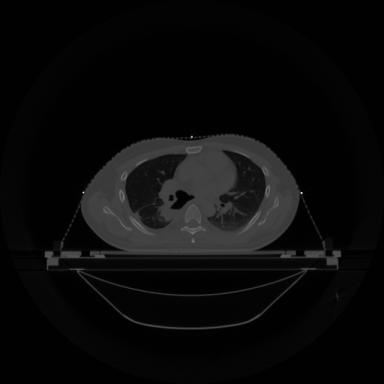body: (82, 135, 300, 251)
cord: (181, 205, 206, 243)
paru kanan: (126, 154, 186, 228)
paru kiri: (208, 151, 266, 231)
